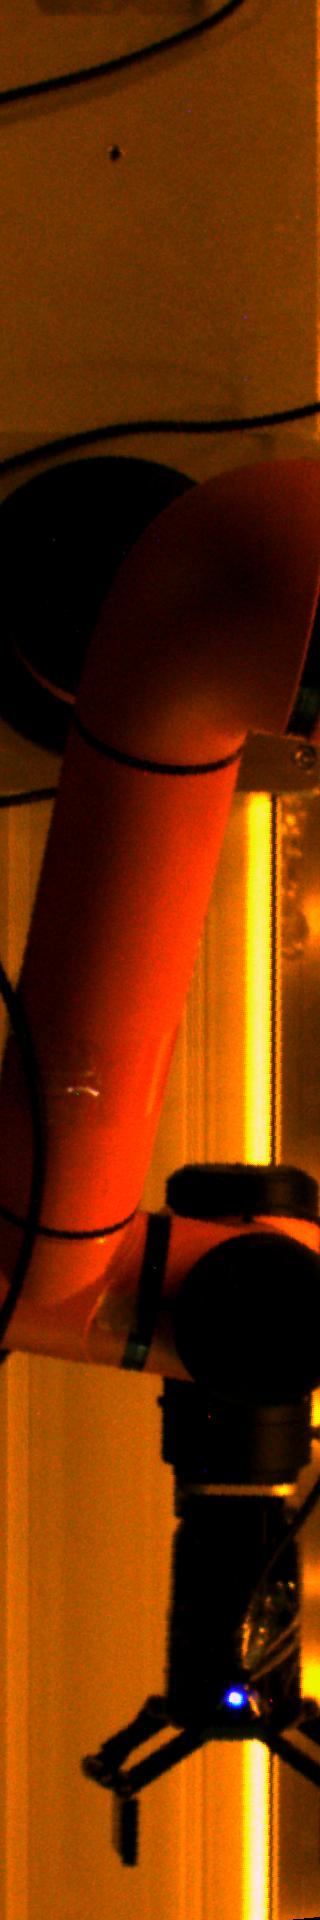keyPoint_1: (219, 1681, 250, 1711)
keyPoint_2: (99, 140, 129, 169)
